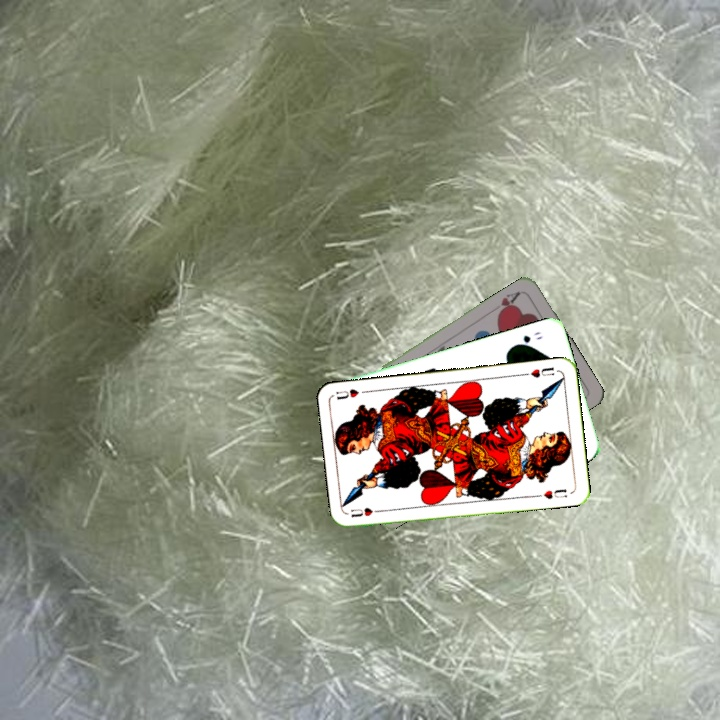GO: (510, 327, 545, 349)
HA: (493, 287, 523, 319)
HU: (347, 503, 386, 520), (520, 363, 557, 380)
